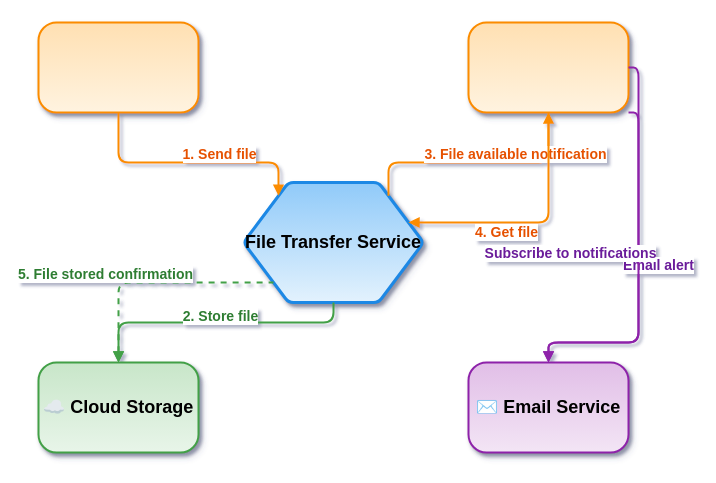
Image size: 716x483. Some labels were removed from this diagram. Here are the shapes that lost their labels. From the top down, the centre of each, then its label:
pixel 119 68: 📤 Sender
pixel 549 68: 📥 Recipient
